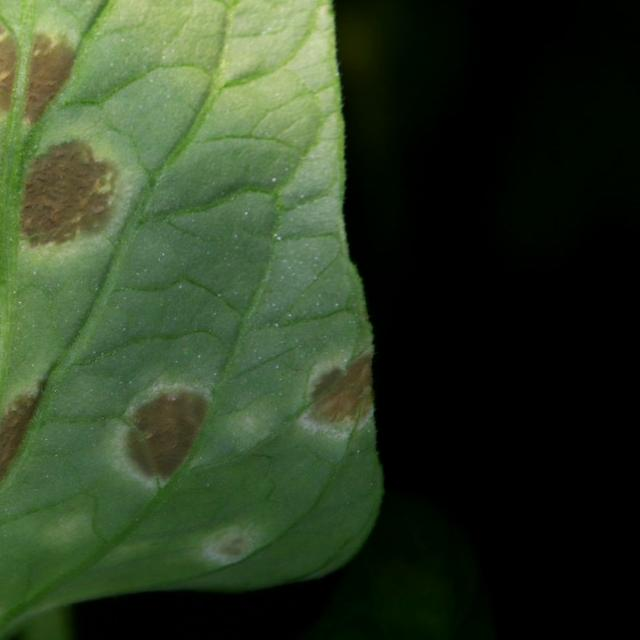Tomato mold leaf: (0, 0, 390, 632)
